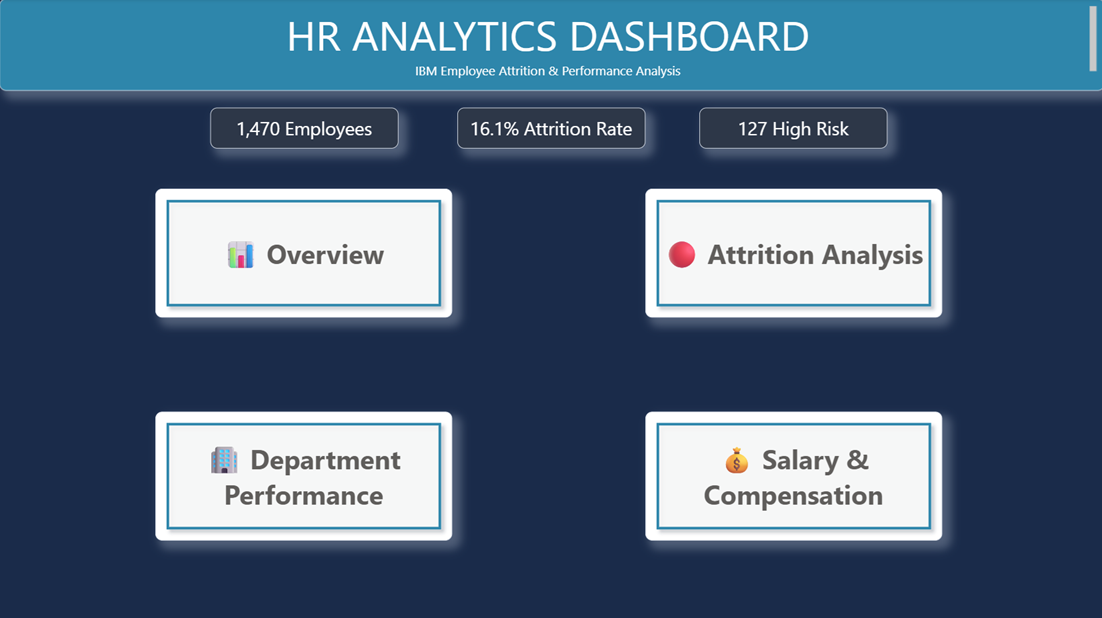

The dashboard page shown, as its layout file describes it:
{"tool":"powerbi","page":{"name":"Home","canvas":[1280,720],"ordinal":0},"visuals":[{"type":"textbox","box":[0,0,1280.4,106.6],"z":0},{"type":"actionButton","title":"cx","box":[180.8,220.2,344.1,149.5],"z":1000},{"type":"actionButton","box":[748.5,220.2,344.1,149.5],"z":1001},{"type":"actionButton","box":[180.8,478.6,344.1,149.5],"z":1002},{"type":"actionButton","box":[748.5,478.6,344.1,149.5],"z":1003},{"type":"textbox","box":[244.5,126.3,217.8,47.5],"z":1004},{"type":"textbox","box":[530.7,126.3,217.8,47.5],"z":1005},{"type":"textbox","box":[811.1,126.3,217.8,47.5],"z":1006}]}

Visuals, with their boxes in screenshot pixels (x1, y1, x2, y2), scaled from the page's 1280x720 canvas onto the 1102x618 screenshot:
textbox: 0:0:1101:91
"cx" actionButton: 156:189:452:317
actionButton: 644:189:941:317
actionButton: 156:411:452:539
actionButton: 644:411:941:539
textbox: 210:108:398:149
textbox: 457:108:644:149
textbox: 698:108:886:149
